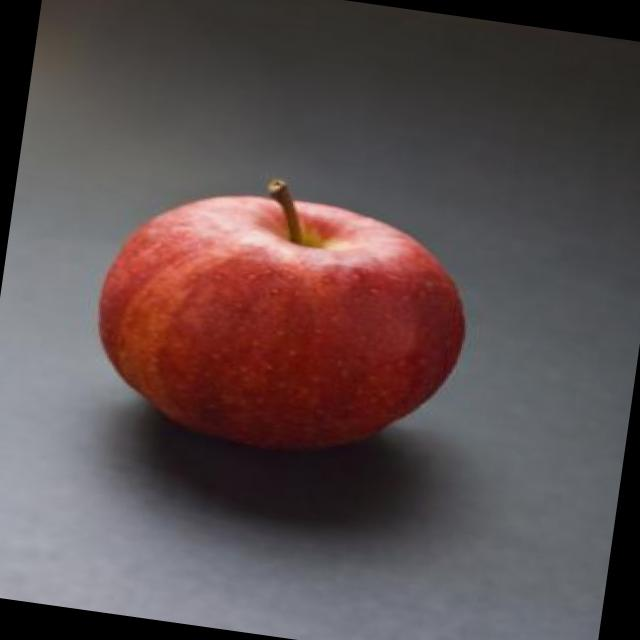apple: (72, 160, 484, 478)
